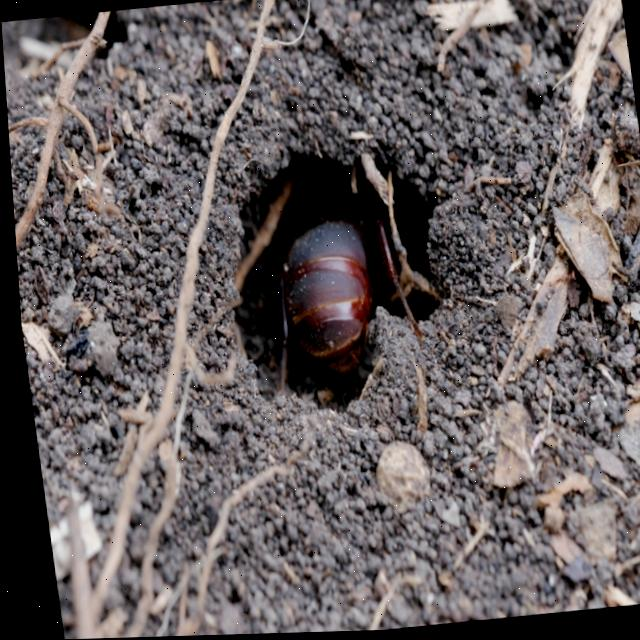Alive-Female-Dealate: (244, 194, 433, 421)
